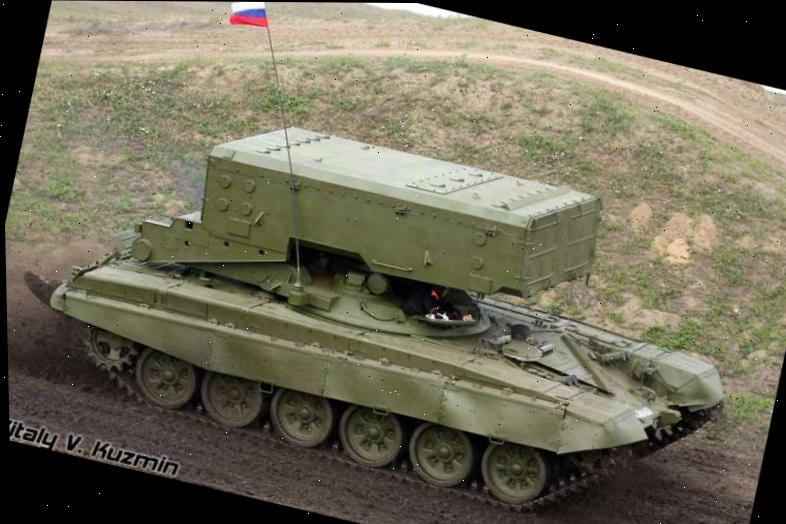rszo: (26, 8, 786, 524)
